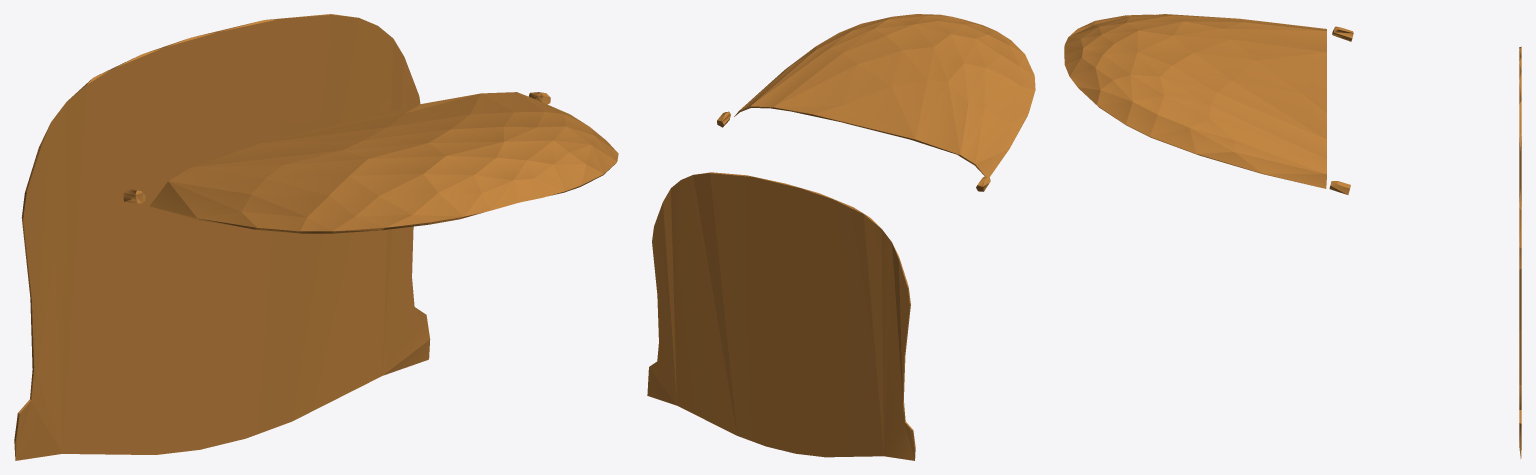
File: ChairmeshChair_3_0_GeomSubset_2.obj
The picture shows the model from 3 angles, left to right: view 1: azimuth 30°, elevation 25°; view 2: azimuth 150°, elevation 25°; view 3: azimuth 270°, elevation 25°; orthographic projection. The views are drawn at different scales.
Parts seen in each view (by area): view 1: ChairmeshChair_3_0_GeomSubset_2; view 2: ChairmeshChair_3_0_GeomSubset_2; view 3: ChairmeshChair_3_0_GeomSubset_2.
Boxes of the visible parts, <box> form: ChairmeshChair_3_0_GeomSubset_2: <box>14,14,618,460</box>; ChairmeshChair_3_0_GeomSubset_2: <box>647,14,1035,460</box>; ChairmeshChair_3_0_GeomSubset_2: <box>1064,14,1521,458</box>.
Bounding box in the file's own units: 0.4474 × 0.4839 × 0.5419.
